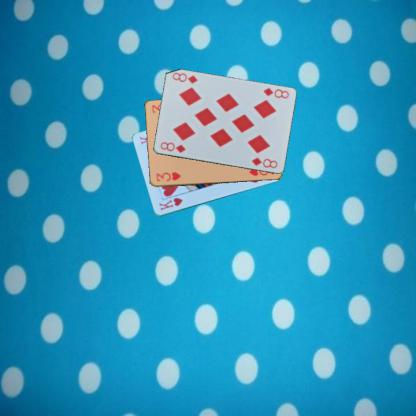3h: (154, 169, 182, 183)
8d: (261, 85, 290, 100), (158, 140, 186, 154)
Kh: (156, 196, 184, 212)
